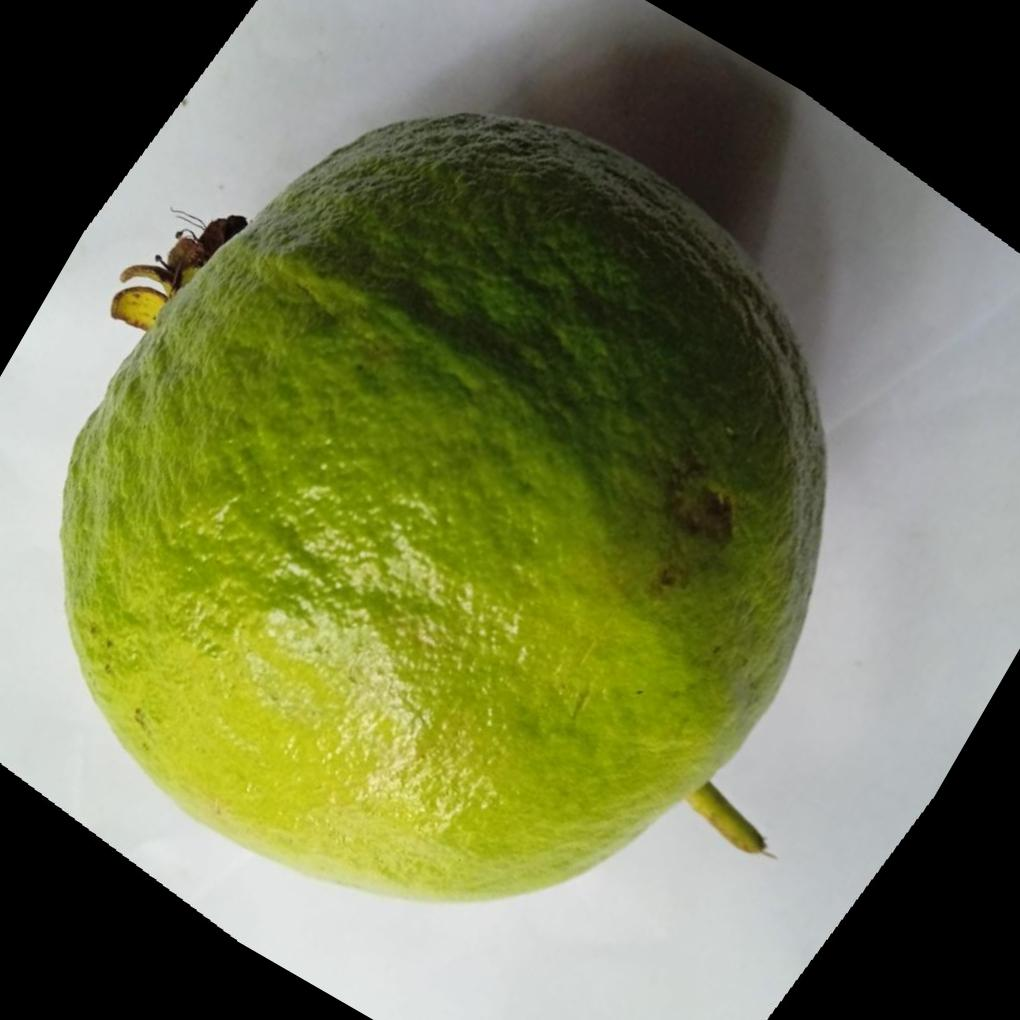FreshGuava: (58, 106, 829, 902)
